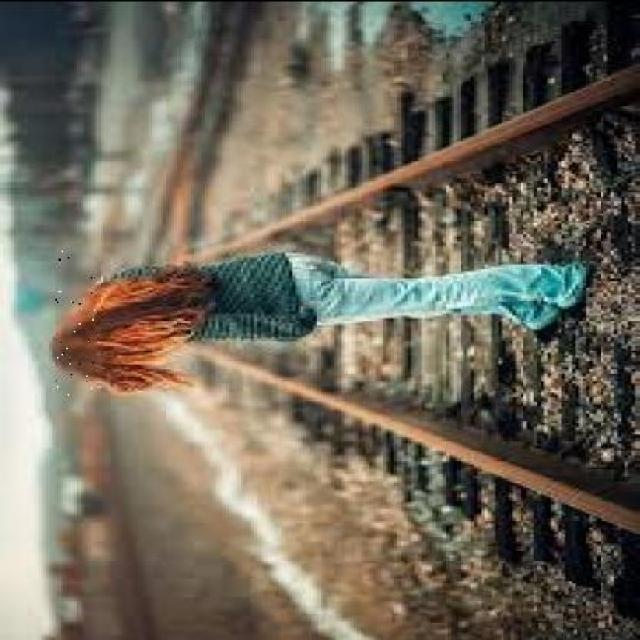danger: (55, 246, 594, 397)
rail: (96, 3, 638, 612)
